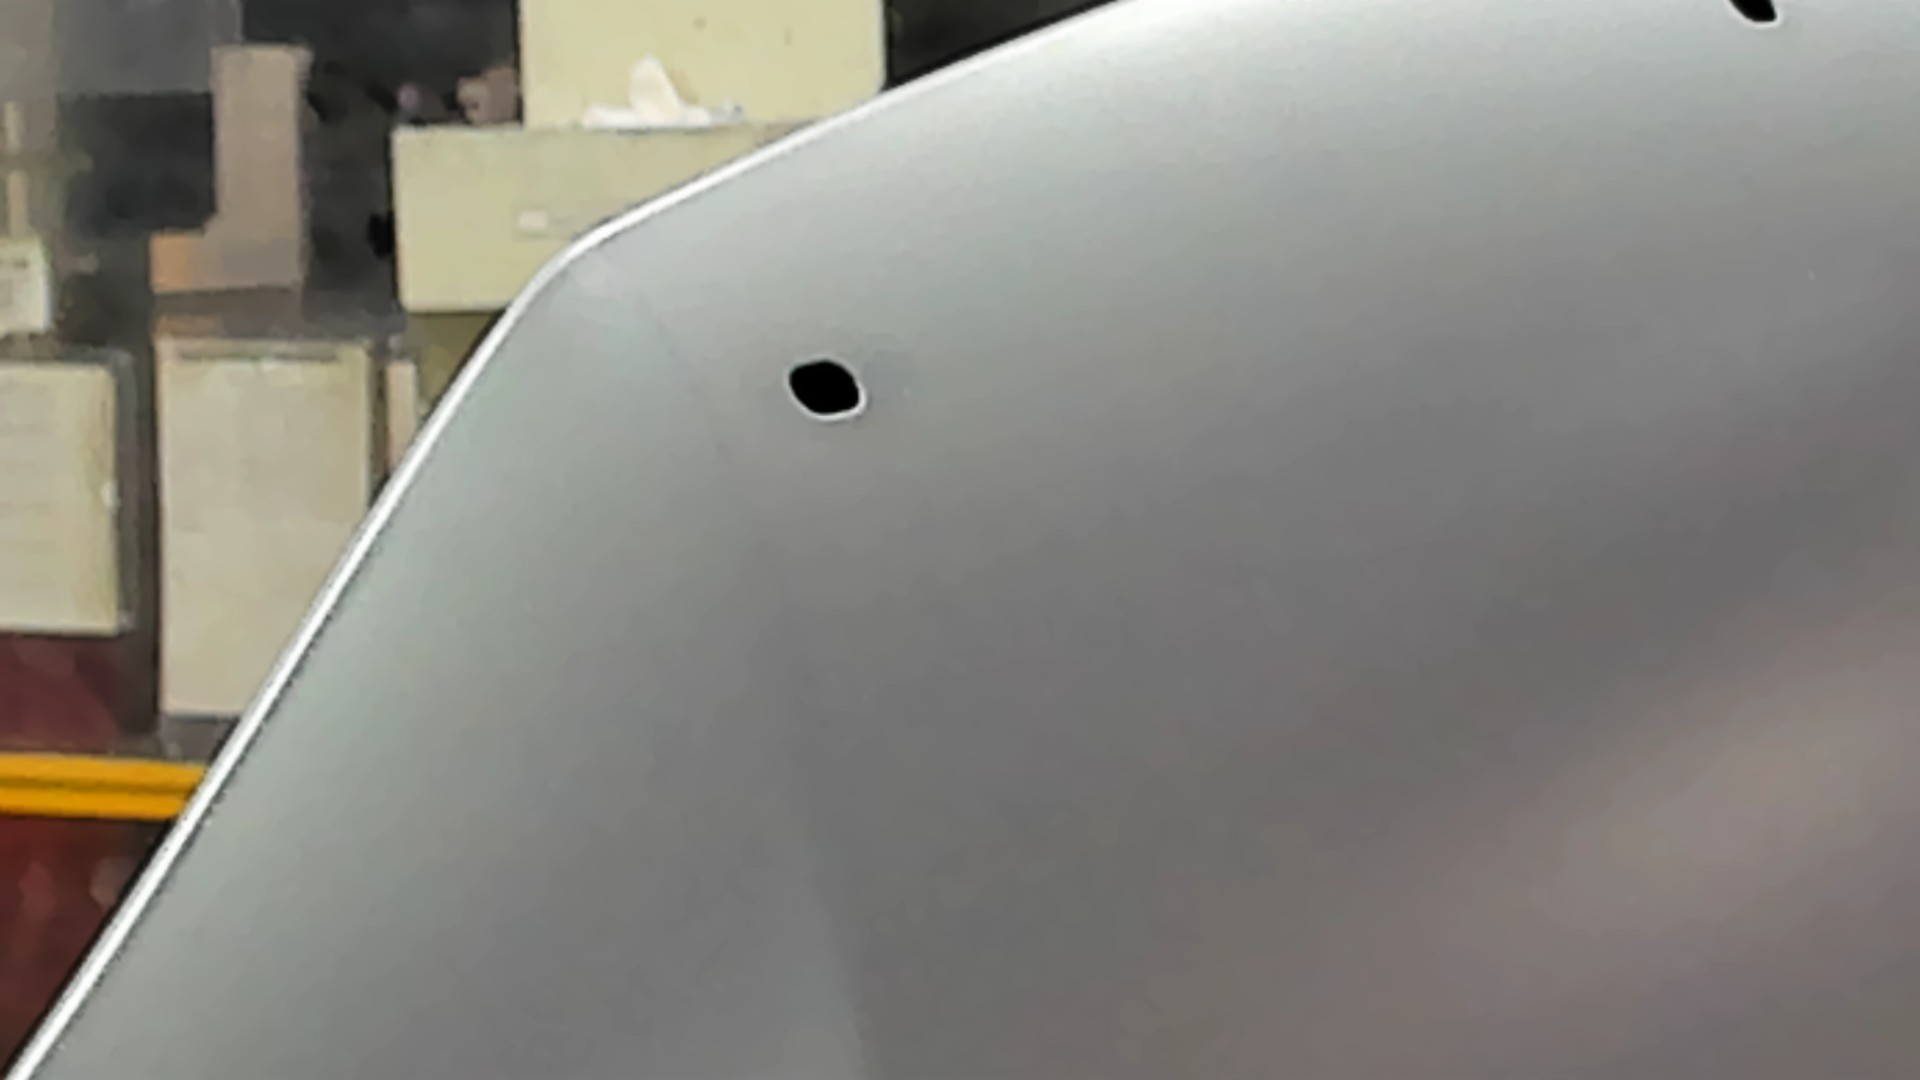amorfo: (781, 351, 872, 433), (1720, 1, 1793, 37)
capo: (1007, 98, 1920, 1080)
